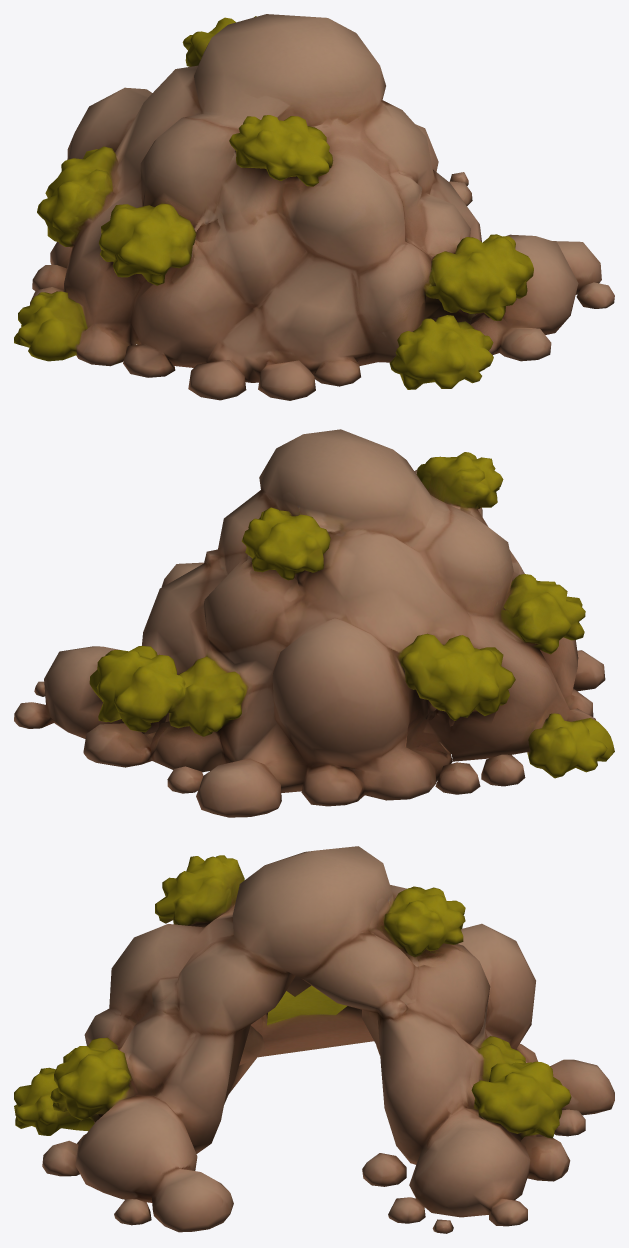
File: rock_cave_3d_model.glb
The picture shows the model from 3 angles, top to bottom: view 1: azimuth 30°, elevation 25°; view 2: azimuth 150°, elevation 25°; view 3: azimuth 270°, elevation 25°; orthographic projection.
Parts seen in each view (by area): view 1: tripo_node_4acd4bf7-3619-4d28-b548-86c1ea6ae700; view 2: tripo_node_4acd4bf7-3619-4d28-b548-86c1ea6ae700; view 3: tripo_node_4acd4bf7-3619-4d28-b548-86c1ea6ae700.
Boxes of the visible parts, x1,y1,x2,y2 form: tripo_node_4acd4bf7-3619-4d28-b548-86c1ea6ae700: (14,14,614,400); tripo_node_4acd4bf7-3619-4d28-b548-86c1ea6ae700: (14,429,614,817); tripo_node_4acd4bf7-3619-4d28-b548-86c1ea6ae700: (14,846,614,1233).
Size of the model in its own units: 0.9707 by 0.4824 by 0.998.
1 material, 1 textured.
